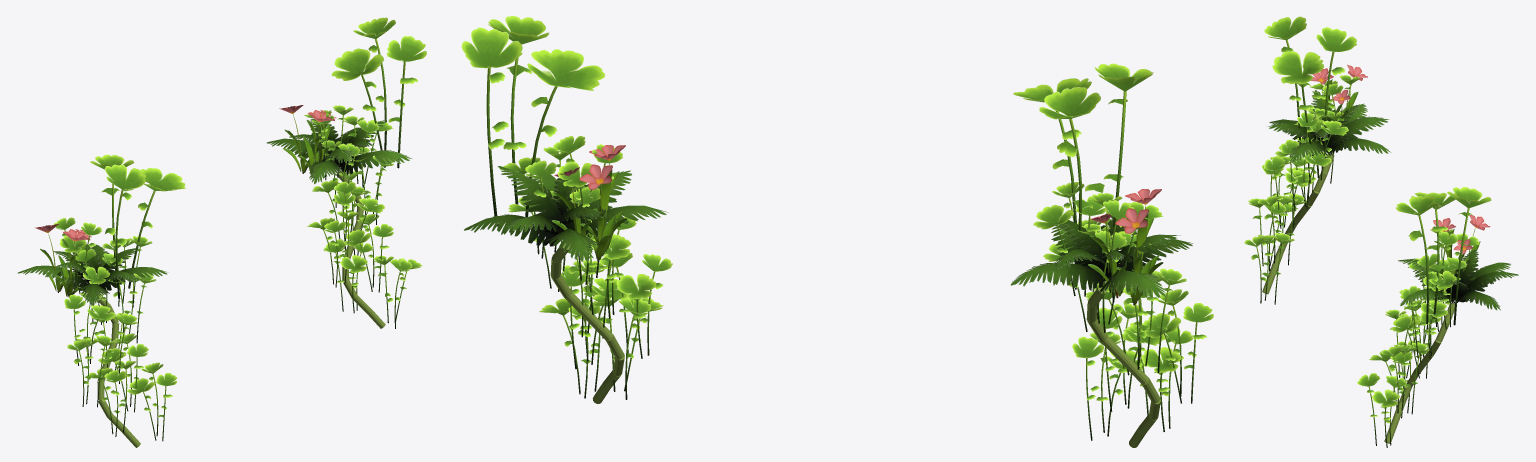
File: Abandoned_Well_Greenery.glb
3 renders of one model, left to right at view 1: azimuth 30°, elevation 25°; view 2: azimuth 150°, elevation 25°; view 3: azimuth 270°, elevation 25°, orthographic. The views are drawn at different scales.
Visible parts, largest first — view 1: Patch_02, Patch_00, Patch_03, Patch_01; view 2: Patch_02, Patch_00, Patch_03, Patch_01; view 3: Patch_00, Patch_02, Patch_01, Patch_03.
Boxes of the visible parts, x1,y1,x2,y2 form: Patch_02: (266, 17, 426, 328); Patch_00: (17, 154, 186, 447); Patch_03: (279, 105, 336, 177); Patch_01: (35, 224, 91, 297); Patch_02: (461, 15, 672, 403); Patch_00: (1010, 63, 1213, 447); Patch_03: (552, 145, 627, 261); Patch_01: (1088, 189, 1163, 305); Patch_00: (1244, 16, 1391, 304); Patch_02: (1357, 187, 1518, 447); Patch_01: (1311, 64, 1367, 137); Patch_03: (1431, 215, 1490, 280).
Size of the model in its own units: 2.08 by 1.23 by 1.14.
Materials: 5 (4 with a texture image).
